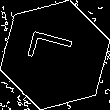L_E: (27, 34, 83, 76)
